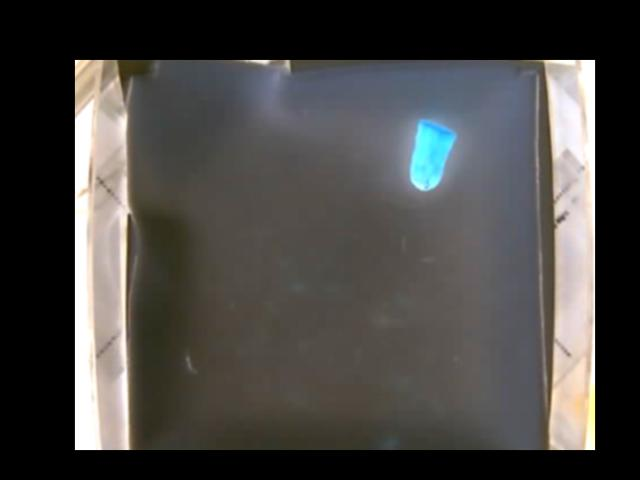Carrot: (410, 120, 456, 189)
